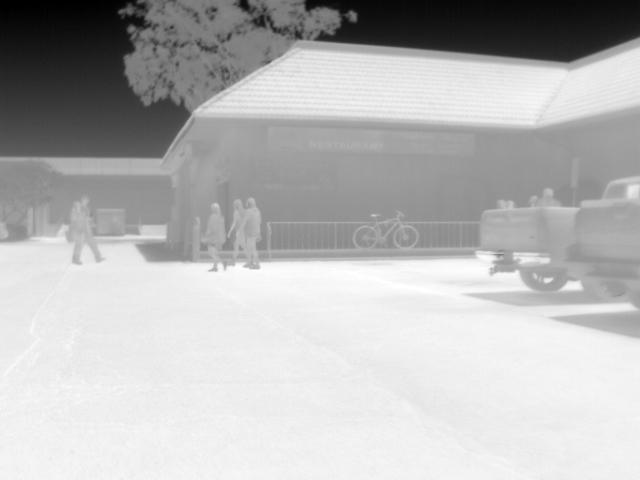car: (474, 174, 639, 292), (563, 197, 639, 310)
person: (77, 196, 106, 263), (202, 202, 229, 273), (238, 194, 261, 268), (225, 197, 244, 265), (68, 200, 88, 264), (531, 188, 564, 207), (494, 198, 507, 208), (507, 199, 515, 208)
